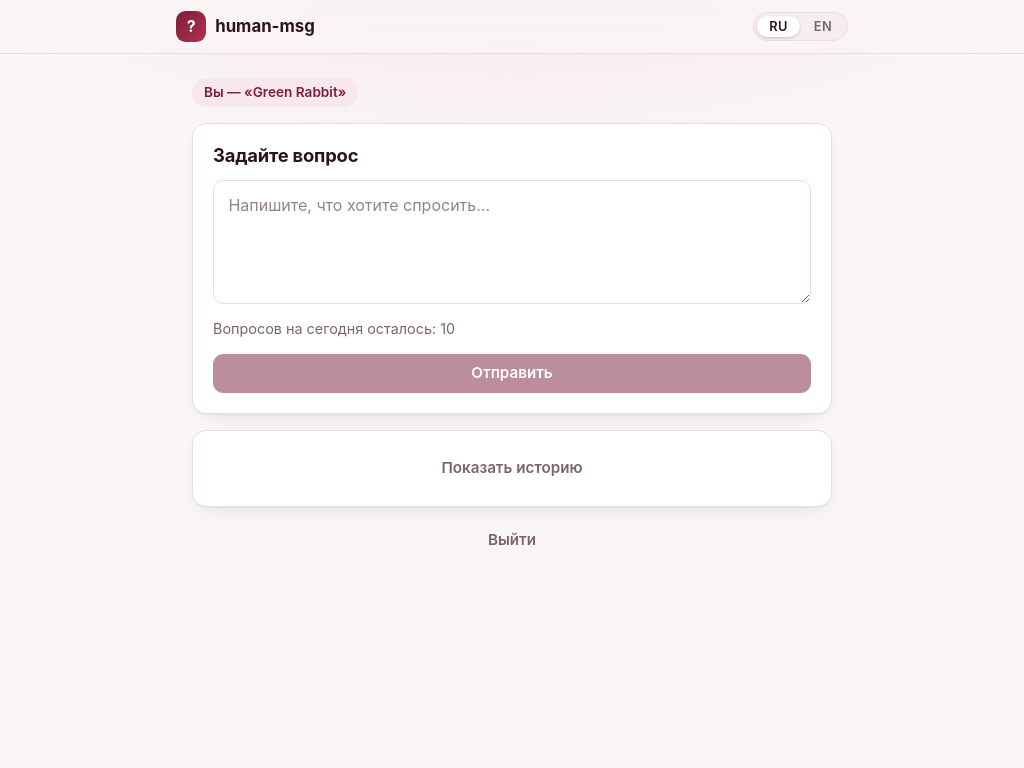
Test: refusals are explained › awaitingAnswer
This screenshot has width=1024, height=768.
Type "A question for you" into the text box at (512, 242), box [213, 180, 811, 304]
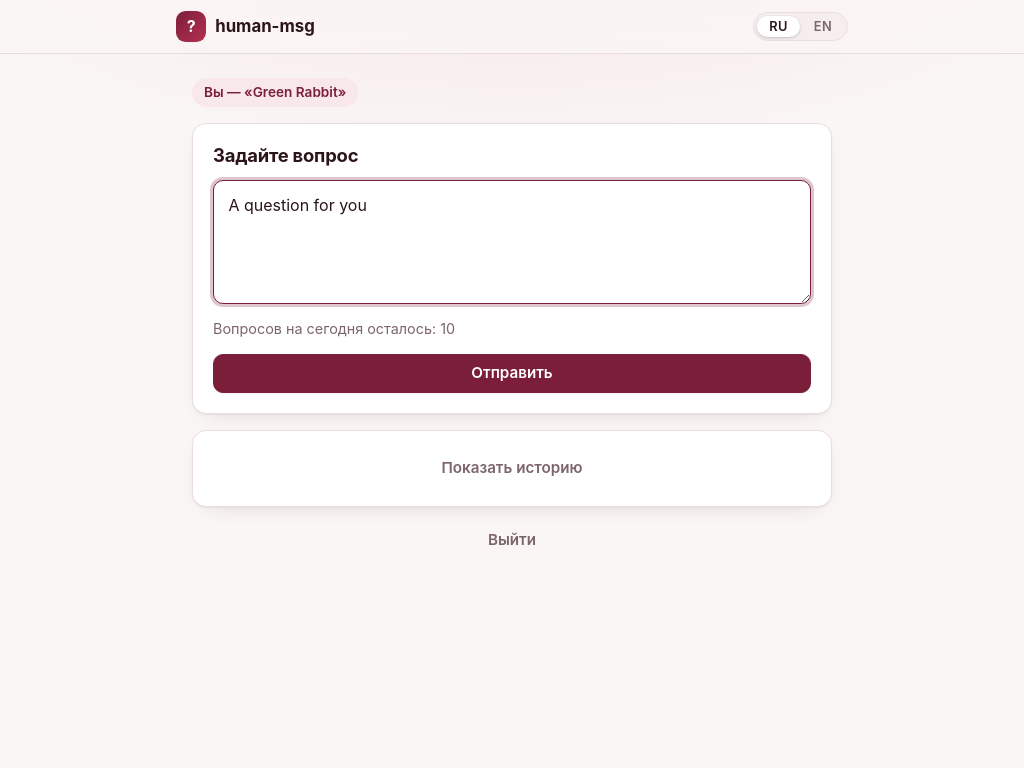
Click the button "Отправить" at (512, 373), box [213, 354, 811, 393]
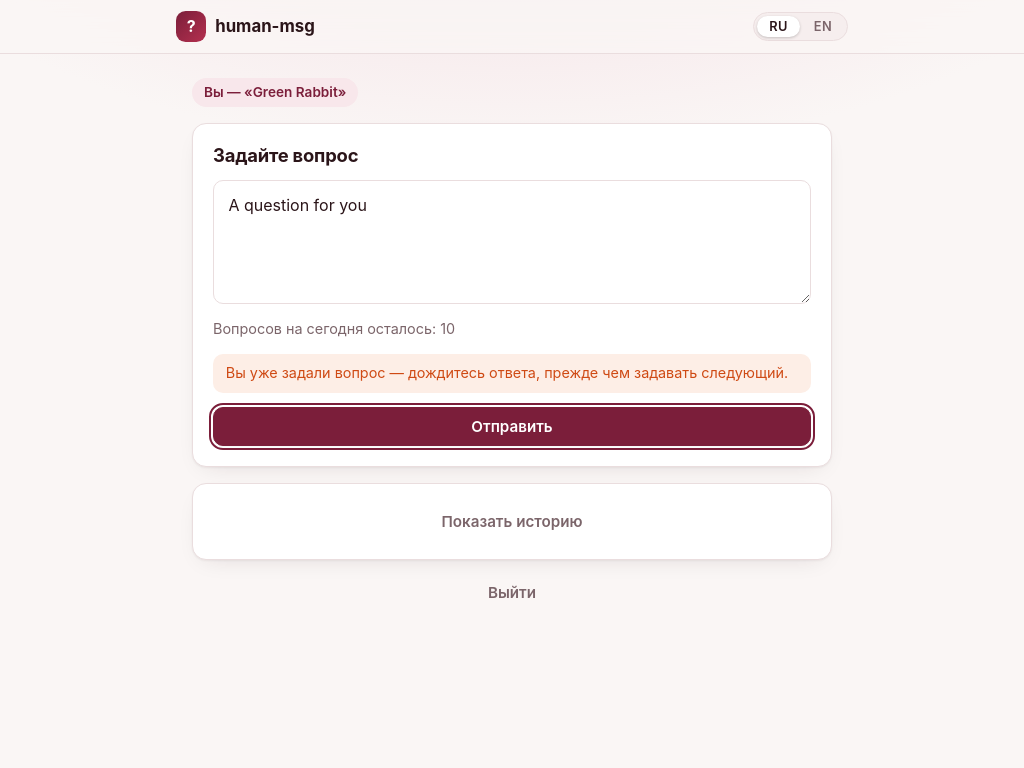
Check: the message reads "Вы уже задали вопрос — дождитесь ответа, прежде чем задавать следующий.", box [226, 364, 788, 381]
